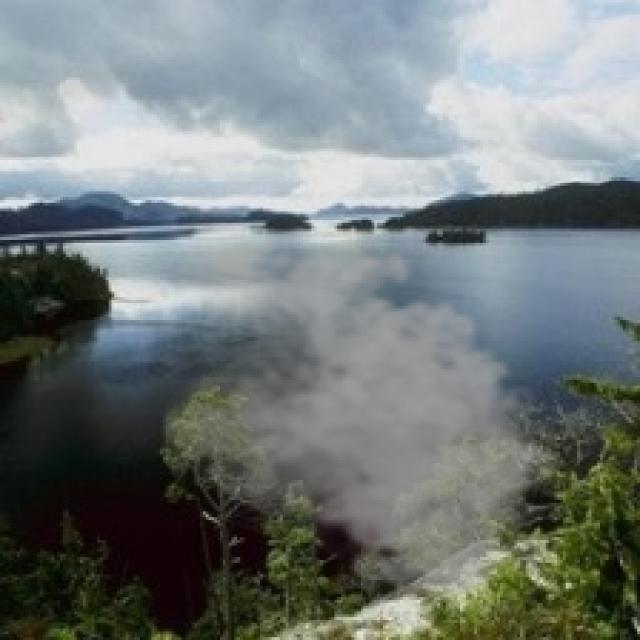smoke: (160, 226, 566, 603)
